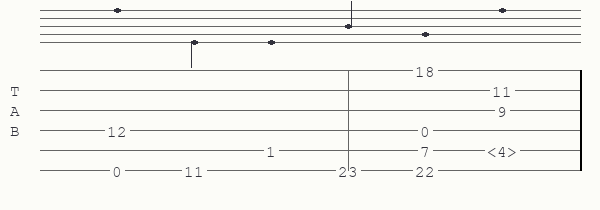0: (112, 163, 126, 177), (420, 123, 434, 137)
1: (266, 143, 280, 157)
11: (184, 163, 208, 177), (492, 83, 516, 97)
12: (107, 123, 131, 137)
18: (415, 63, 439, 77)
22: (415, 163, 439, 177)
23: (338, 163, 362, 177)
7: (420, 143, 434, 157)
9: (497, 103, 511, 117)
harmonic: (487, 143, 521, 158)
